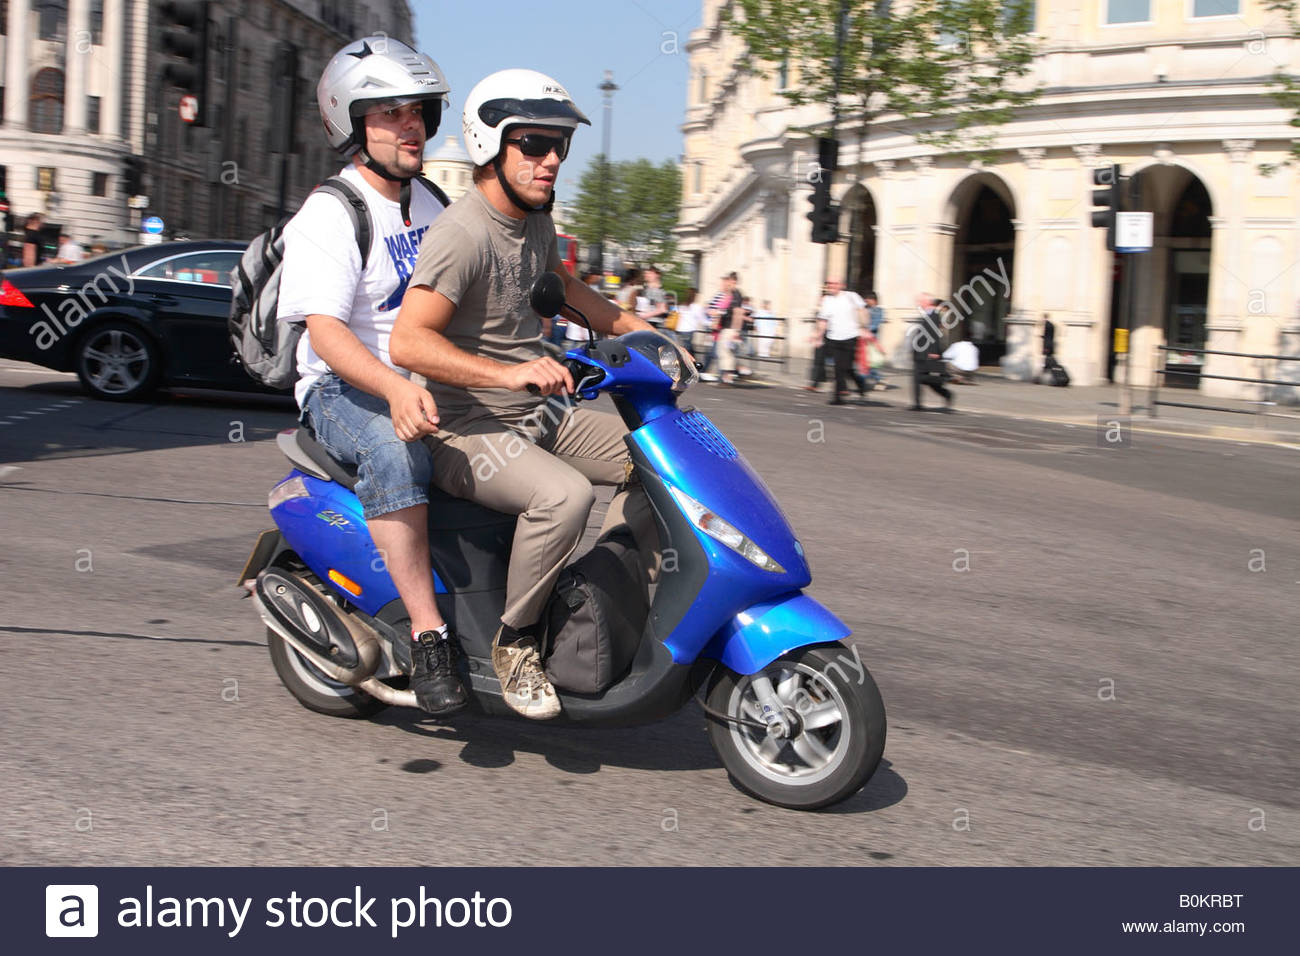helmet: (316, 39, 446, 170), (462, 62, 587, 191)
